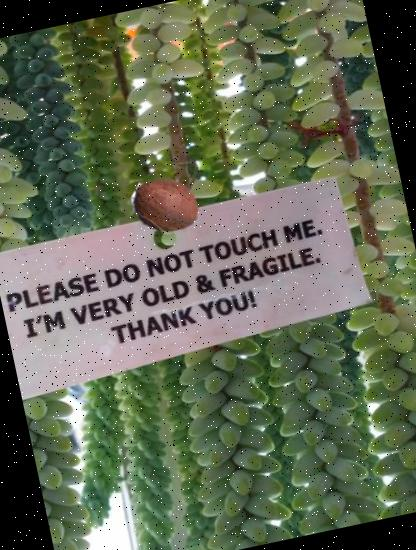Cocos: (125, 165, 206, 246)
